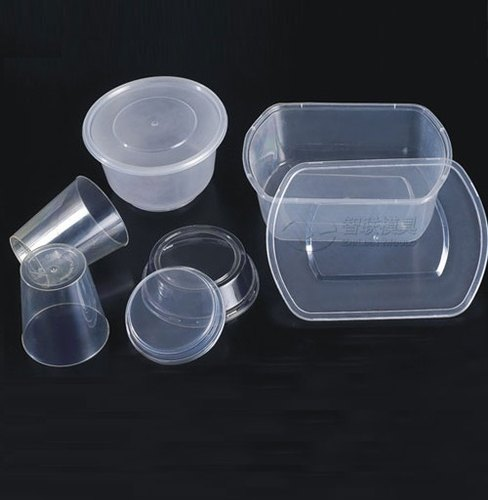PlasticBox: (79, 70, 231, 214)
